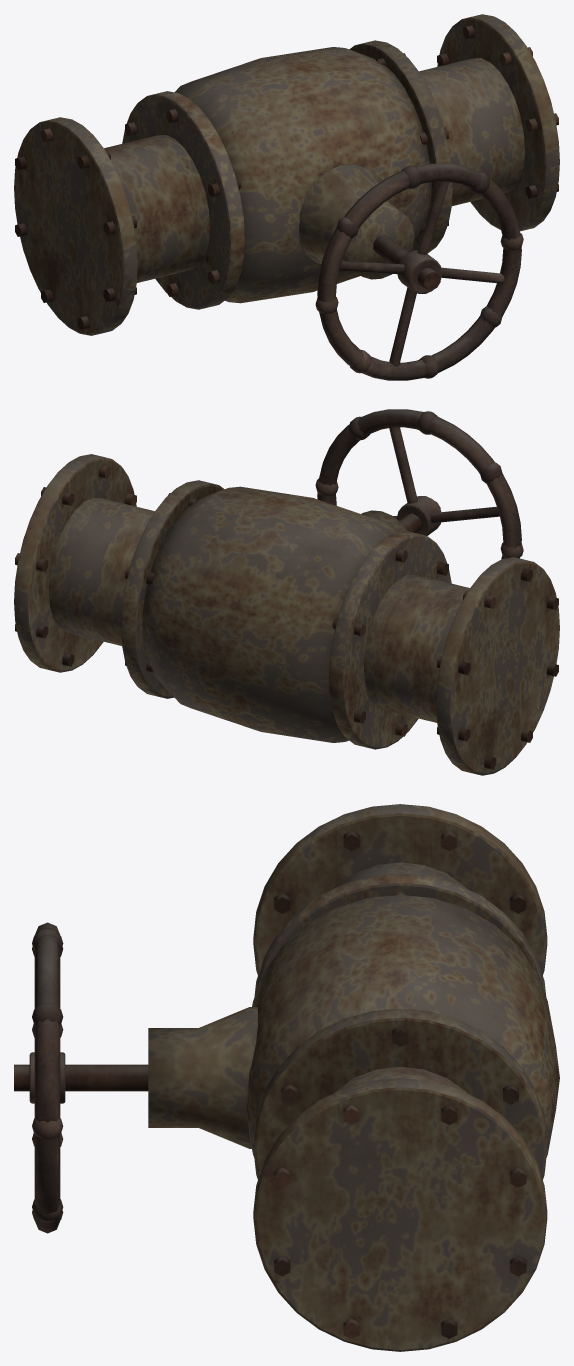
File: Pipe_Large_Valve.fbx
3 views of the same model, one above another, from view 1: azimuth 30°, elevation 25°; view 2: azimuth 150°, elevation 25°; view 3: azimuth 270°, elevation 25° (orthographic). The views are drawn at different scales.
Visible parts, largest first — view 1: Pipe_Large_Valve_Mesh; view 2: Pipe_Large_Valve_Mesh; view 3: Pipe_Large_Valve_Mesh.
Boxes of the visible parts, <box> form: Pipe_Large_Valve_Mesh: <box>14,14,559,380</box>; Pipe_Large_Valve_Mesh: <box>14,409,559,775</box>; Pipe_Large_Valve_Mesh: <box>14,804,559,1351</box>.
Bounding box in the file's own units: 0.822 × 0.38 × 0.65.
